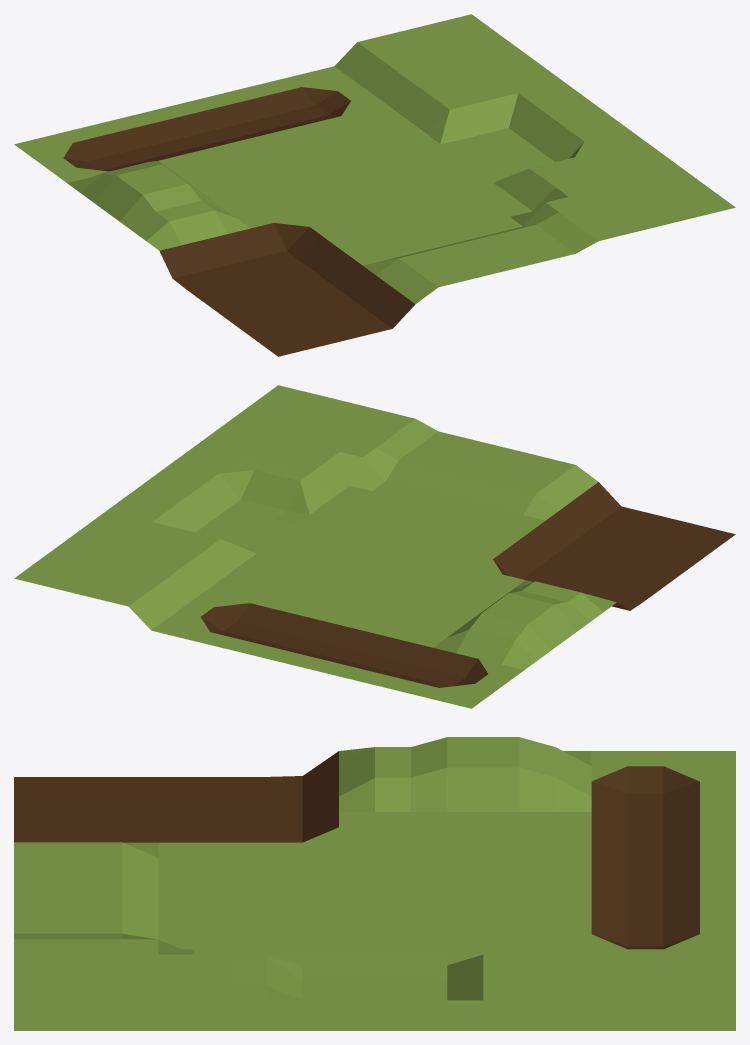
The model's file is terrain.fbx.
The picture shows the model from 3 angles, top to bottom: view 1: azimuth 30°, elevation 25°; view 2: azimuth 150°, elevation 25°; view 3: azimuth 270°, elevation 25°; orthographic projection. The views are drawn at different scales.
Visible parts, largest first — view 1: terrain; view 2: terrain; view 3: terrain.
Part boxes in pixels (<box>): terrain: <box>14,14,735,356</box>; terrain: <box>14,385,735,708</box>; terrain: <box>14,737,735,1030</box>.
Size of the model in its own units: 1984 by 167 by 1984.
